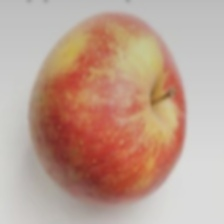apple: (66, 27, 201, 215)
